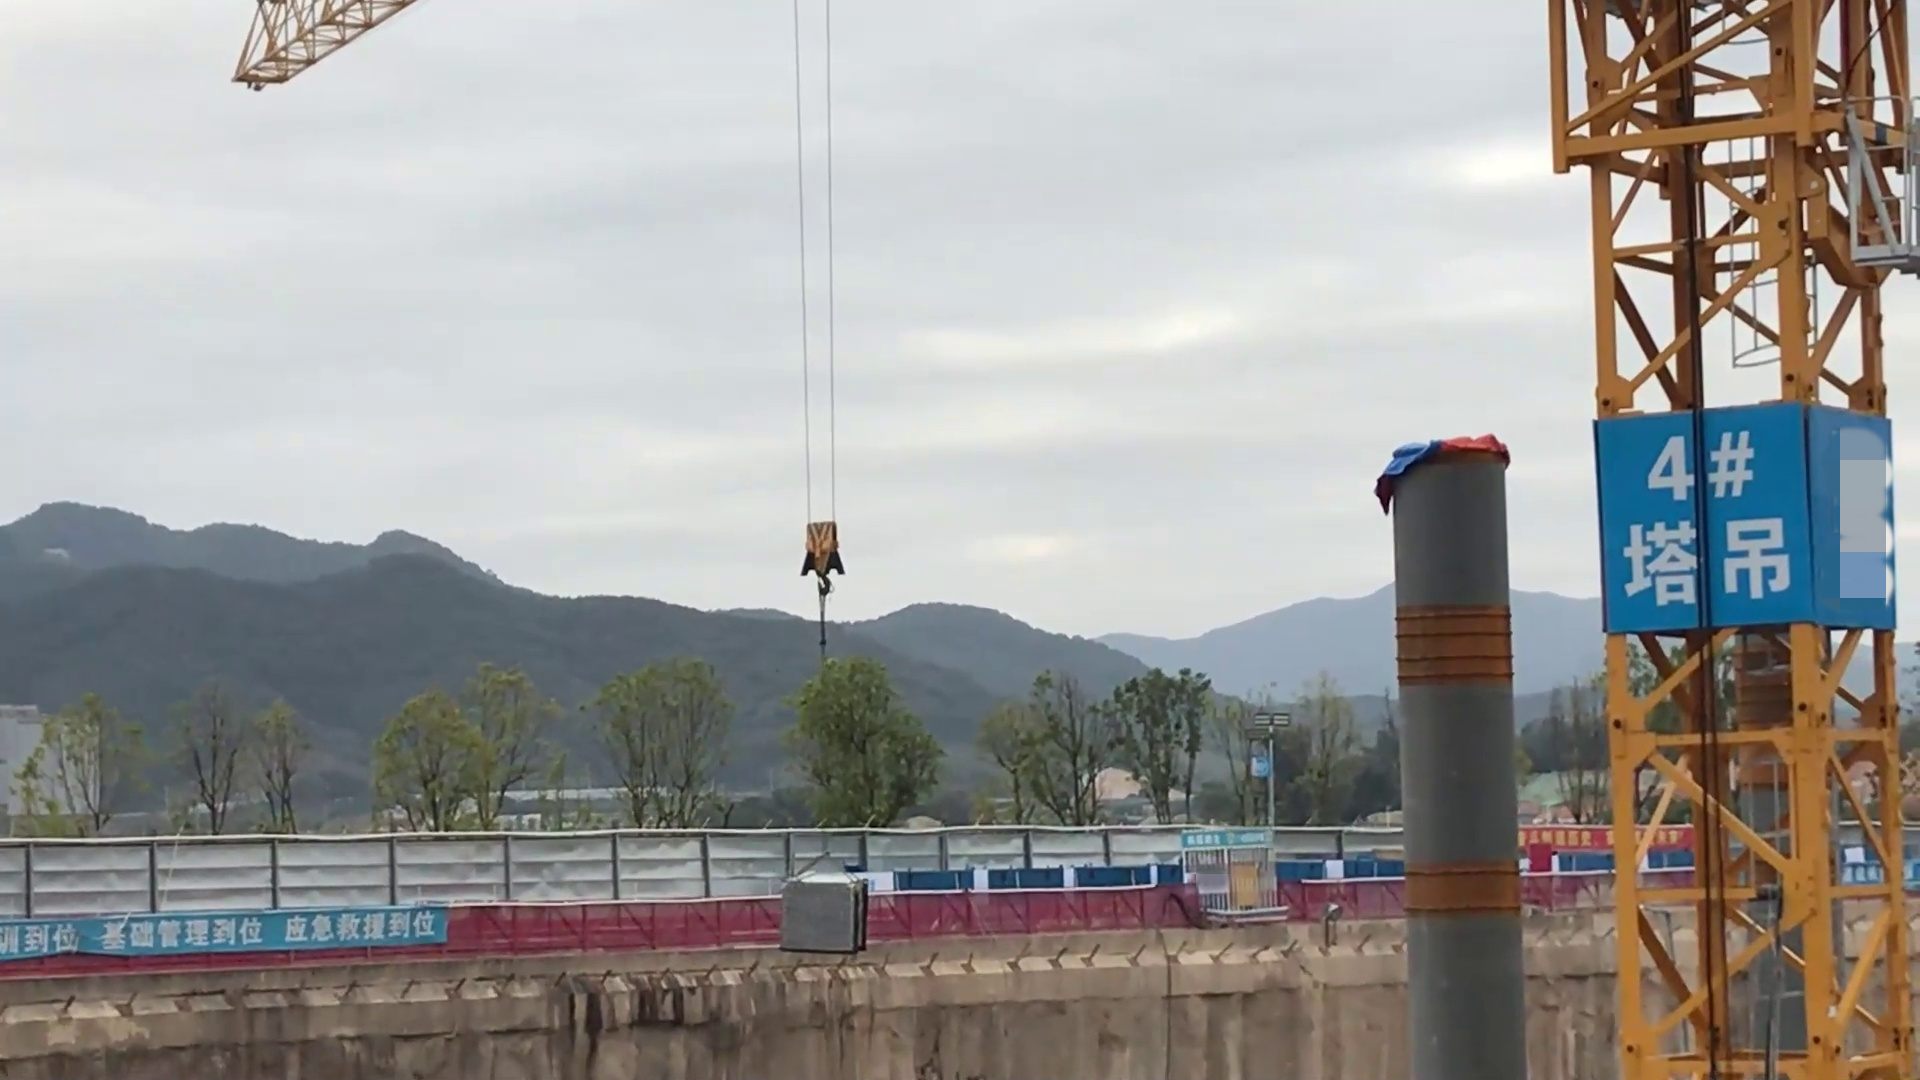hook: (793, 516, 849, 601)
slogan: (9, 909, 448, 965)
